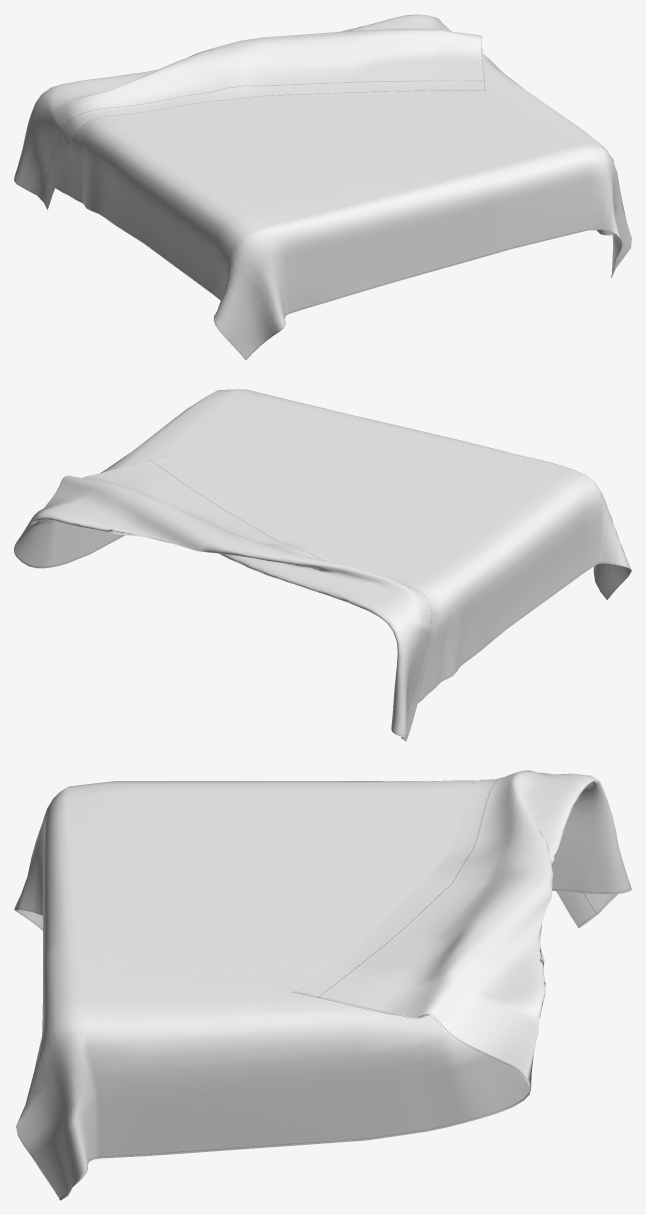
Rendered from sheets.gltf.
3 views of the same model, one above another, from view 1: azimuth 30°, elevation 25°; view 2: azimuth 150°, elevation 25°; view 3: azimuth 270°, elevation 25° (orthographic). The views are drawn at different scales.
Parts seen in each view (by area): view 1: sheet-flat; view 2: sheet-flat; view 3: sheet-flat.
Boxes of the visible parts, x1,y1,x2,y2 form: sheet-flat: [14, 14, 631, 360]; sheet-flat: [14, 389, 631, 741]; sheet-flat: [14, 770, 631, 1200].
Size of the model in its own units: 1.36 by 0.4723 by 1.27.
1 material, 1 textured.
